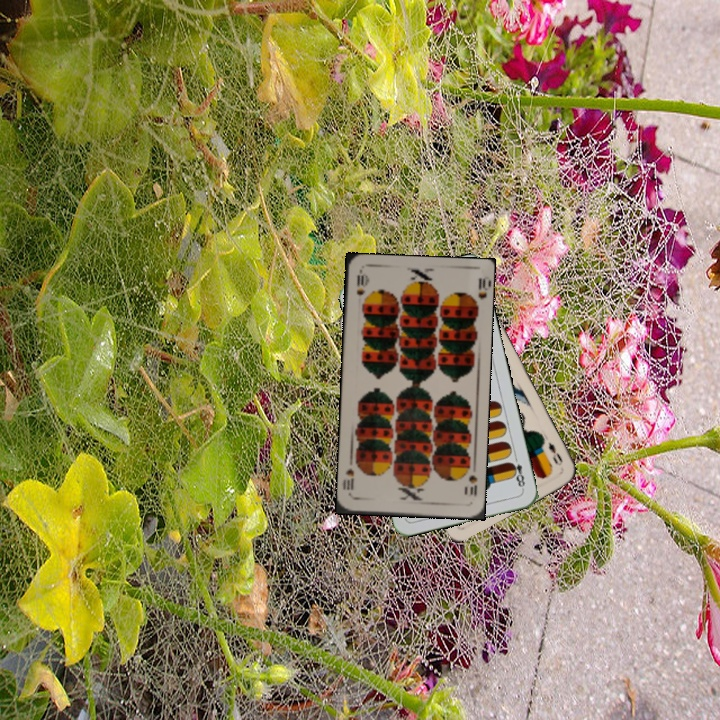E8: (506, 452, 528, 492)
EO: (544, 438, 566, 468)
S10: (462, 462, 480, 499), (353, 271, 368, 298)
